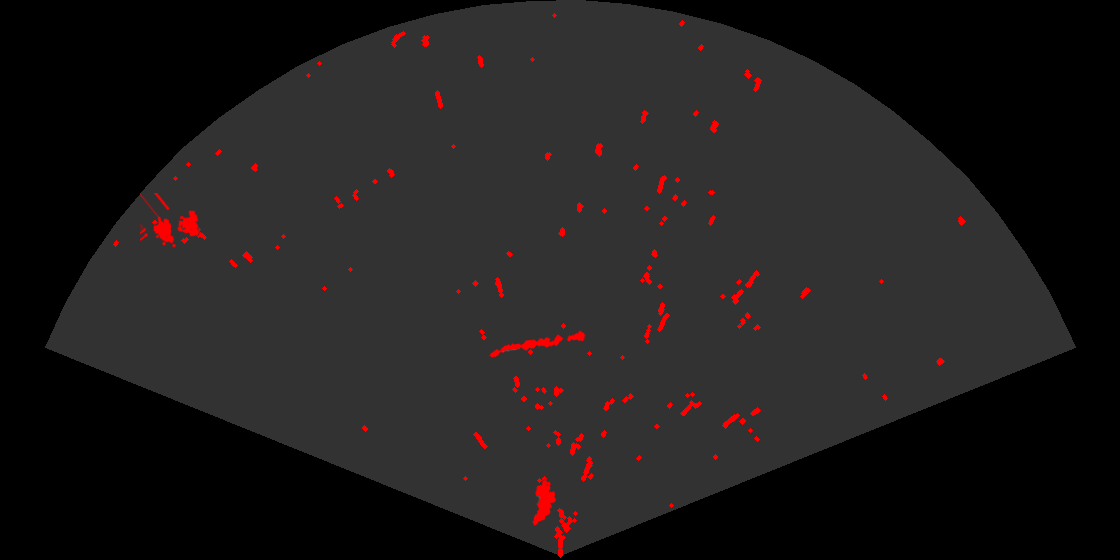AUV: (531, 478, 558, 527)
cage: (140, 193, 201, 249)
chain: (488, 329, 587, 359)
